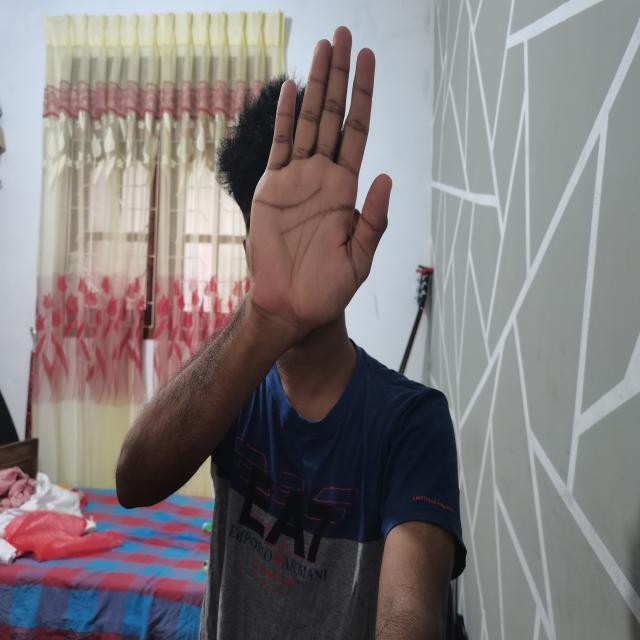Hello: (246, 24, 395, 332)
